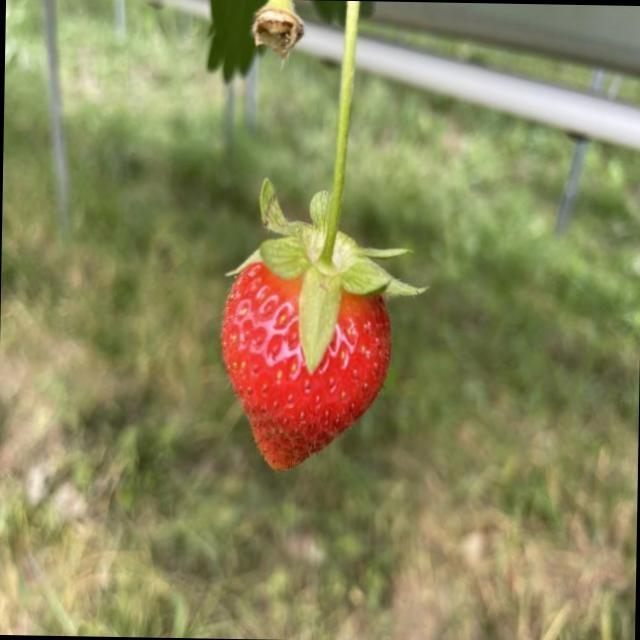stem: (256, 15, 422, 371)
strawberryR: (223, 263, 390, 467)
